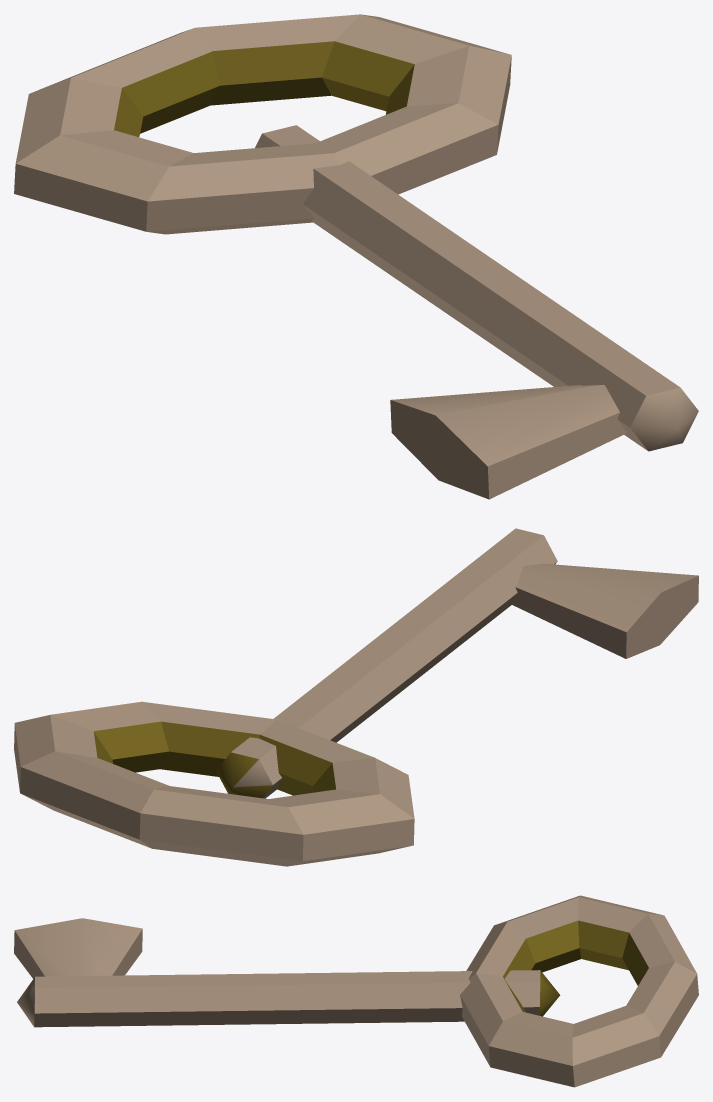
Rendered from llave.fbx.
3 renders of one model, top to bottom at view 1: azimuth 30°, elevation 25°; view 2: azimuth 150°, elevation 25°; view 3: azimuth 270°, elevation 25°, orthographic. The views are drawn at different scales.
Parts seen in each view (by area): view 1: pTorus1, pCylinder1, pCube1; view 2: pTorus1, pCylinder1, pCube1; view 3: pTorus1, pCylinder1, pCube1.
Part boxes in pixels (x1=…): pTorus1: x1=14, y1=14, x2=511, y2=234; pCylinder1: x1=255, y1=125, x2=698, y2=451; pCube1: x1=390, y1=385, x2=626, y2=499; pTorus1: x1=14, y1=701, x2=414, y2=866; pCylinder1: x1=216, y1=528, x2=557, y2=798; pCube1: x1=510, y1=563, x2=698, y2=658; pTorus1: x1=460, y1=895, x2=698, y2=1087; pCylinder1: x1=17, y1=970, x2=560, y2=1027; pCube1: x1=14, y1=918, x2=142, y2=978.
Bounding box in the file's own units: 0.322 × 0.0586 × 0.5619.
